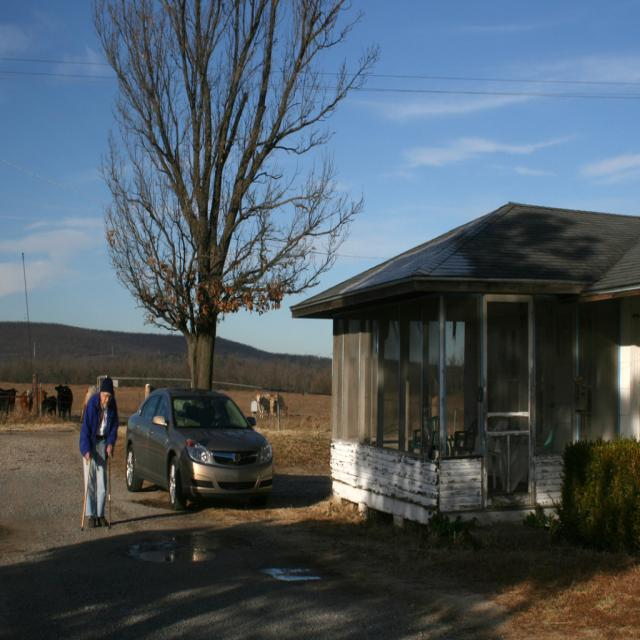car: (118, 385, 279, 507)
